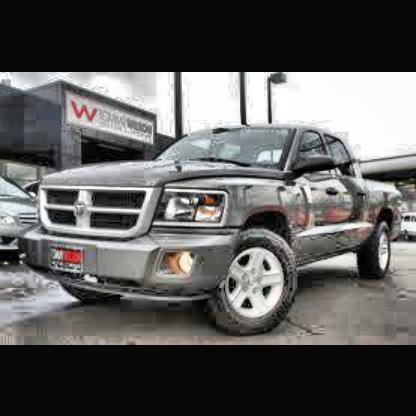Dodge Dakota Crew Cab 2010: (13, 116, 415, 339)
